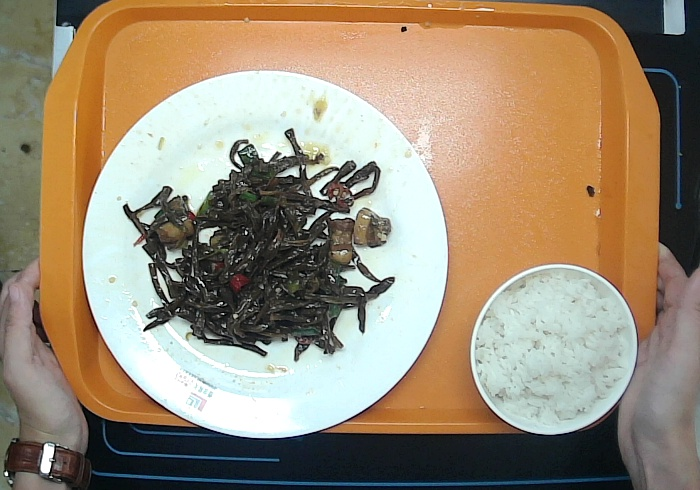ZNLD-Da_Yuan_Pan: (81, 68, 452, 440)
ZNLD-Fan_Wan: (470, 262, 639, 437)
